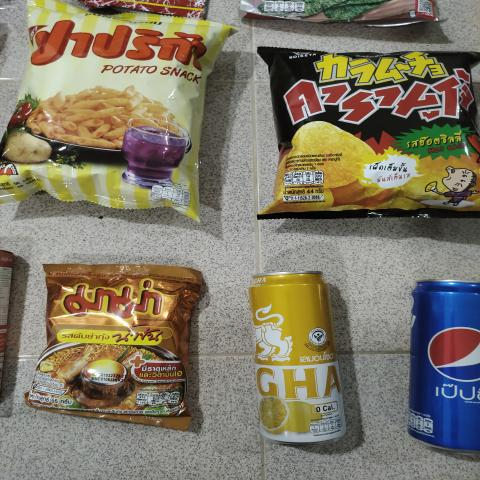karamujo: (267, 42, 480, 212)
mama: (48, 263, 198, 416)
paprika: (23, 9, 199, 225)
pepsi_blue: (402, 268, 480, 458)
singha_yellow: (250, 267, 356, 447)
